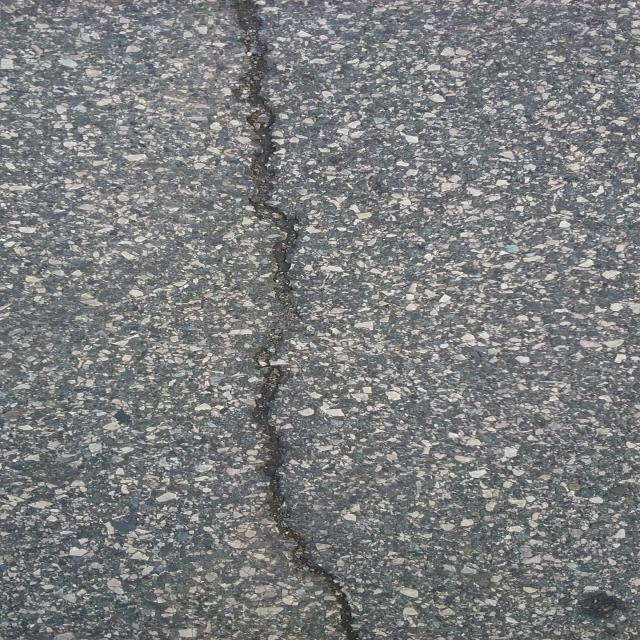Longitudial: (180, 0, 432, 640)
